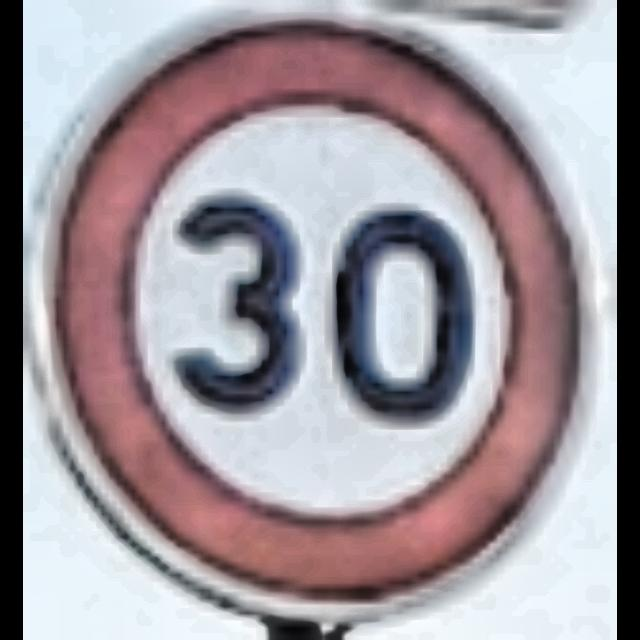speed_30: (41, 14, 585, 614)
